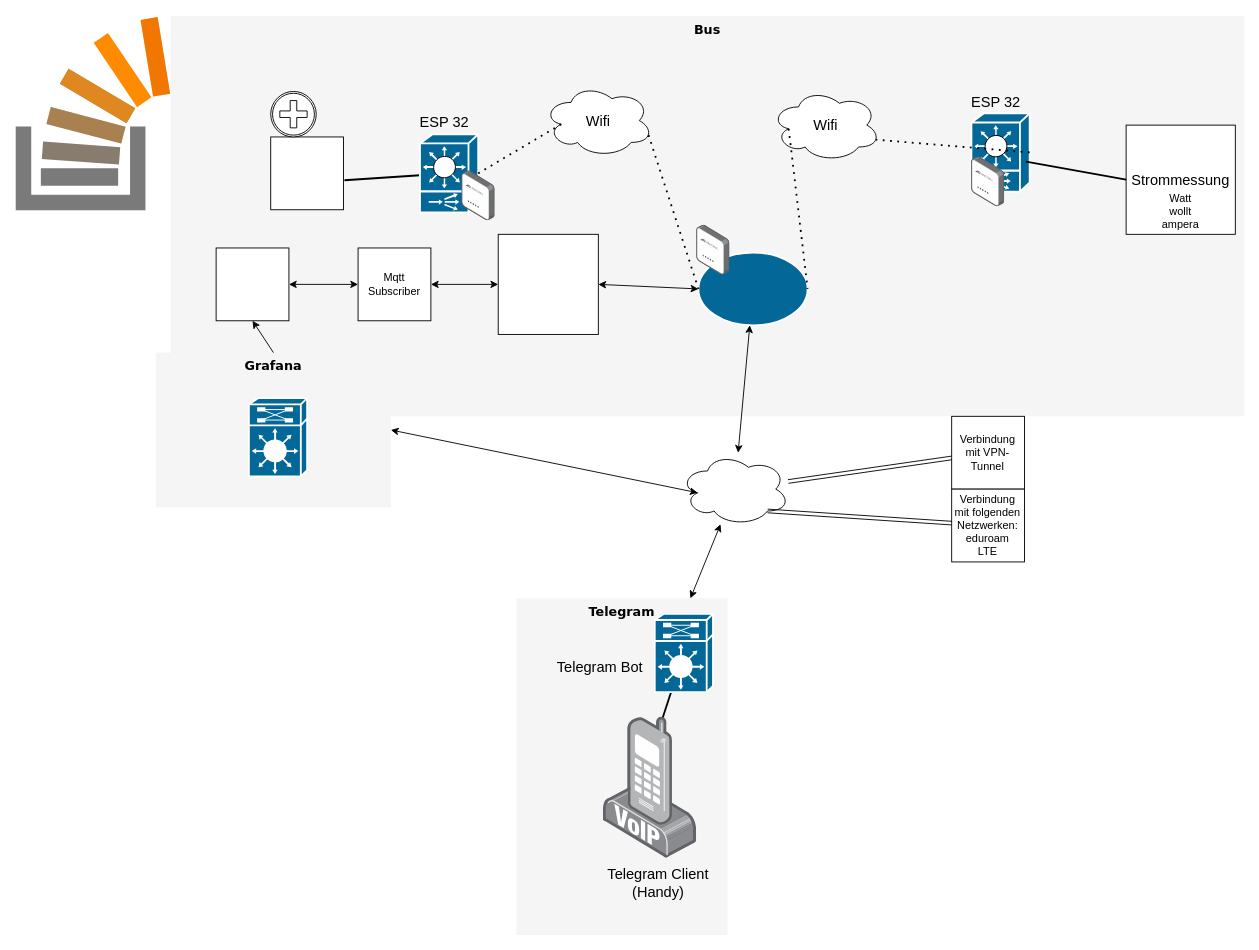
The diagram is 1259 pixels wide and 950 high, and some of its shapes have lost their labels. The shapes that lost their labels are listed below. From the top down, each one's centre as x and y in pixels, then its label:
the point at 307,173: BMP280 (°C / hPa)
the point at 252,284: InfluxDB
the point at 547,283: Mqtt Broker
the point at 752,288: Raspberry Pi
the point at 734,489: Internet
